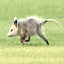opossum: (7, 16, 59, 45)
